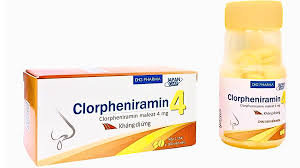Clorpheniramin: (71, 101, 169, 113)
